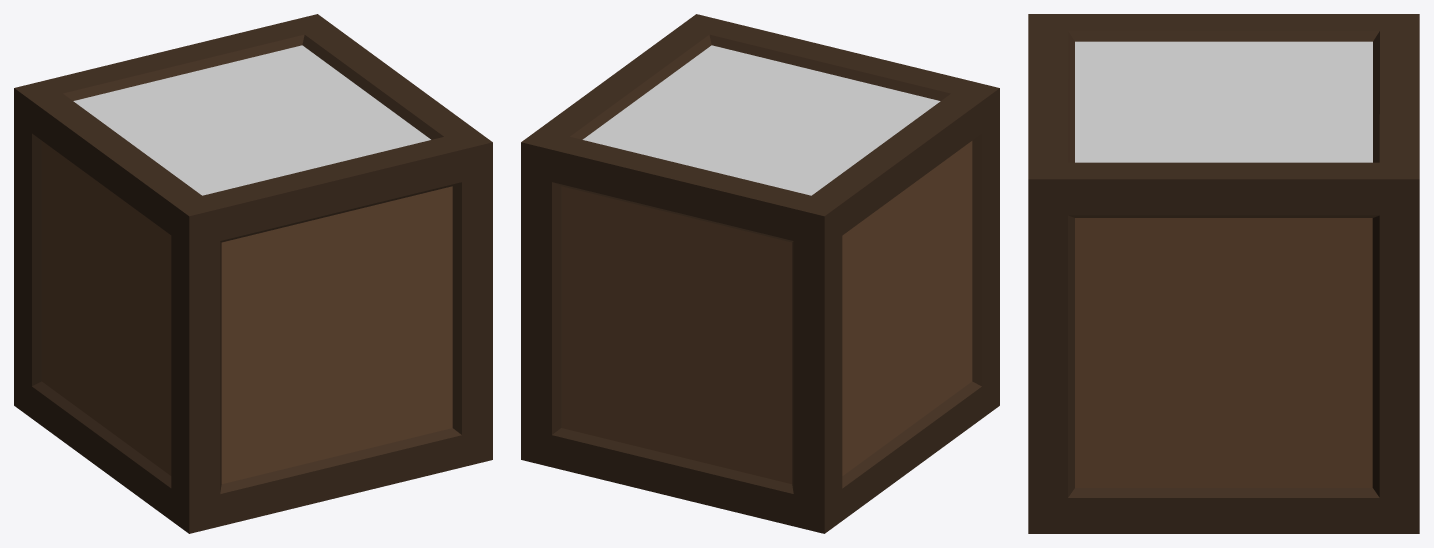
File: box_2_snow_mat.fbx
3 renders of one model, left to right at view 1: azimuth 30°, elevation 25°; view 2: azimuth 150°, elevation 25°; view 3: azimuth 270°, elevation 25°, orthographic. The views are drawn at different scales.
Visible parts, largest first — view 1: box_2_snow_mat; view 2: box_2_snow_mat; view 3: box_2_snow_mat.
Boxes of the visible parts, bbox=[...] form: box_2_snow_mat: bbox=[14, 14, 492, 533]; box_2_snow_mat: bbox=[521, 14, 999, 533]; box_2_snow_mat: bbox=[1028, 14, 1419, 533].
Bounding box in the file's own units: 38.07 × 38.06 × 38.07.
